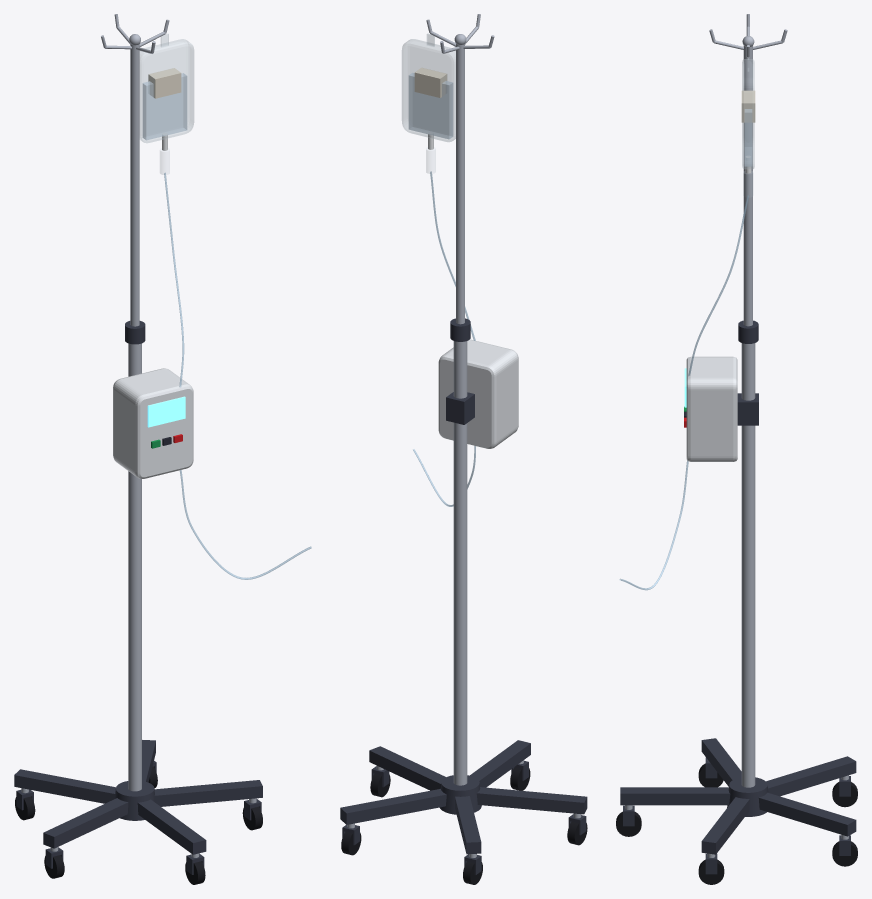
File: hos-006.glb
The picture shows the model from 3 angles, left to right: view 1: azimuth 30°, elevation 25°; view 2: azimuth 150°, elevation 25°; view 3: azimuth 270°, elevation 25°; orthographic projection.
Visible parts, largest first — view 1: dark_steel, steel, bed_frame, lab_glass, iv_fluid, rubber, liquid_water, pump_screen, paper; view 2: dark_steel, steel, bed_frame, lab_glass, iv_fluid, rubber, paper, liquid_water; view 3: dark_steel, steel, bed_frame, rubber, lab_glass, liquid_water, iv_fluid, paper.
Part boxes in pixels (x1,y1,x2,y2): dark_steel: (14,321,262,874); steel: (21,14,256,857); bed_frame: (113,368,193,478); lab_glass: (140,34,193,142); iv_fluid: (142,73,187,140); rubber: (15,766,262,884); liquid_water: (164,173,311,579); pump_screen: (147,396,185,427); paper: (148,68,181,98); dark_steel: (340,318,587,874); steel: (347,14,581,857); bed_frame: (438,339,518,448); lab_glass: (402,33,455,141); iv_fluid: (408,73,453,139); rubber: (341,767,587,884); paper: (414,67,447,97); liquid_water: (413,171,475,506); dark_steel: (620,320,856,874); steel: (625,14,848,857); bed_frame: (686,356,737,461); rubber: (616,763,857,884); lab_glass: (742,58,754,168); liquid_water: (619,195,748,590); iv_fluid: (744,109,752,166); paper: (741,90,755,122).
Size of the model in its own units: 0.5922 by 2.08 by 0.5665.
